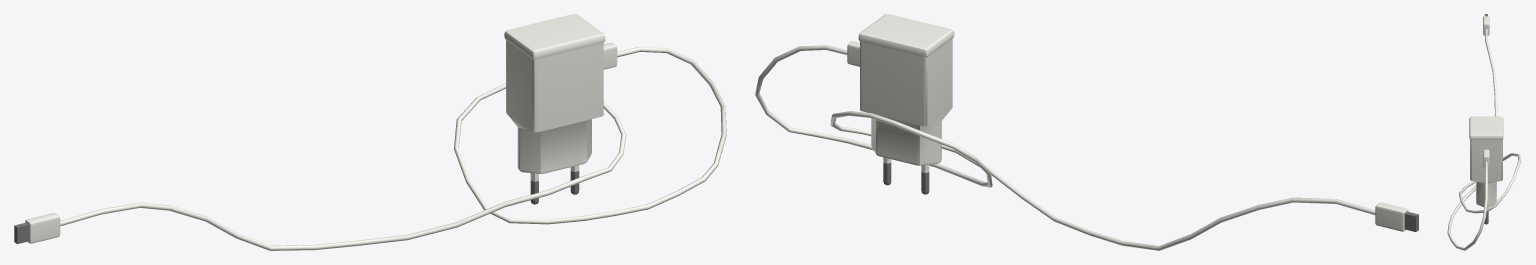
Rendered from Chargeur_USB.fbx.
3 renders of one model, left to right at view 1: azimuth 30°, elevation 25°; view 2: azimuth 150°, elevation 25°; view 3: azimuth 270°, elevation 25°, orthographic. The views are drawn at different scales.
Visible parts, largest first — view 1: USB_Chargeur; view 2: USB_Chargeur; view 3: USB_Chargeur.
Part boxes in pixels (x1=…): USB_Chargeur: x1=14, y1=14, x2=726, y2=250; USB_Chargeur: x1=755, y1=14, x2=1418, y2=250; USB_Chargeur: x1=1447, y1=14, x2=1521, y2=250.
Bounding box in the file's own units: 33.43 × 7.6 × 5.46.
